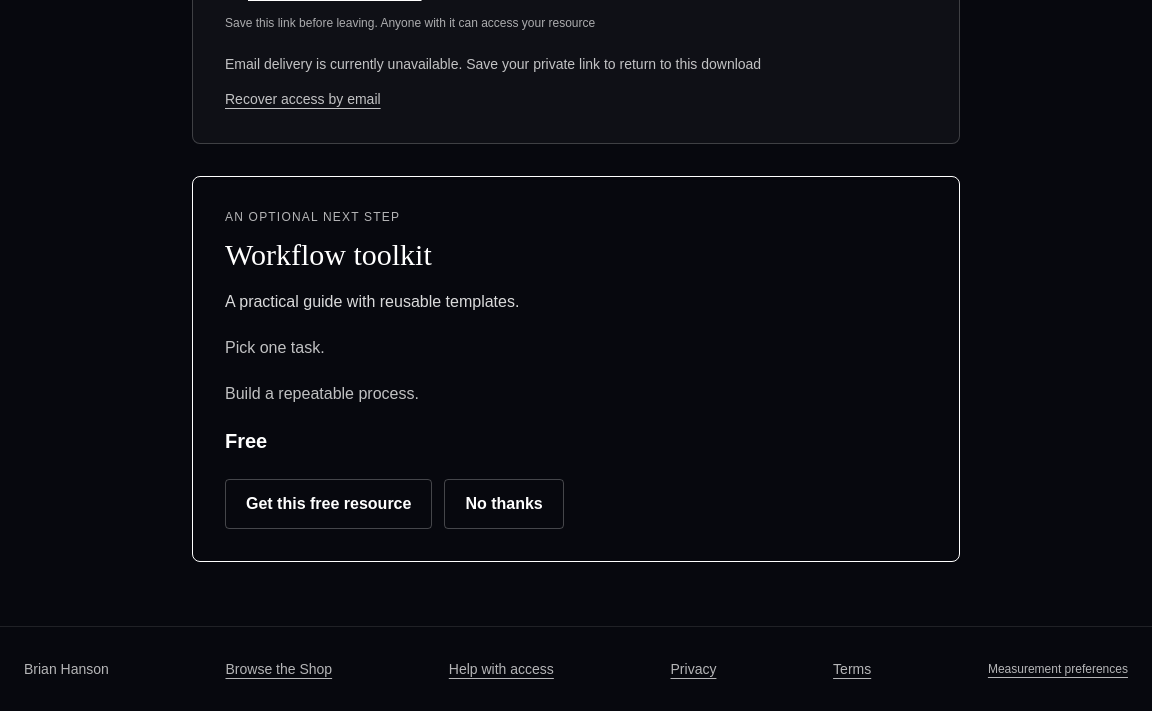
offer visitor journey › removes the bearer fragment, uses POST data and keeps original access after declining
(page scrolled)
Click the button "No thanks": (504, 504) [444,478,564,528]
(page scrolled)
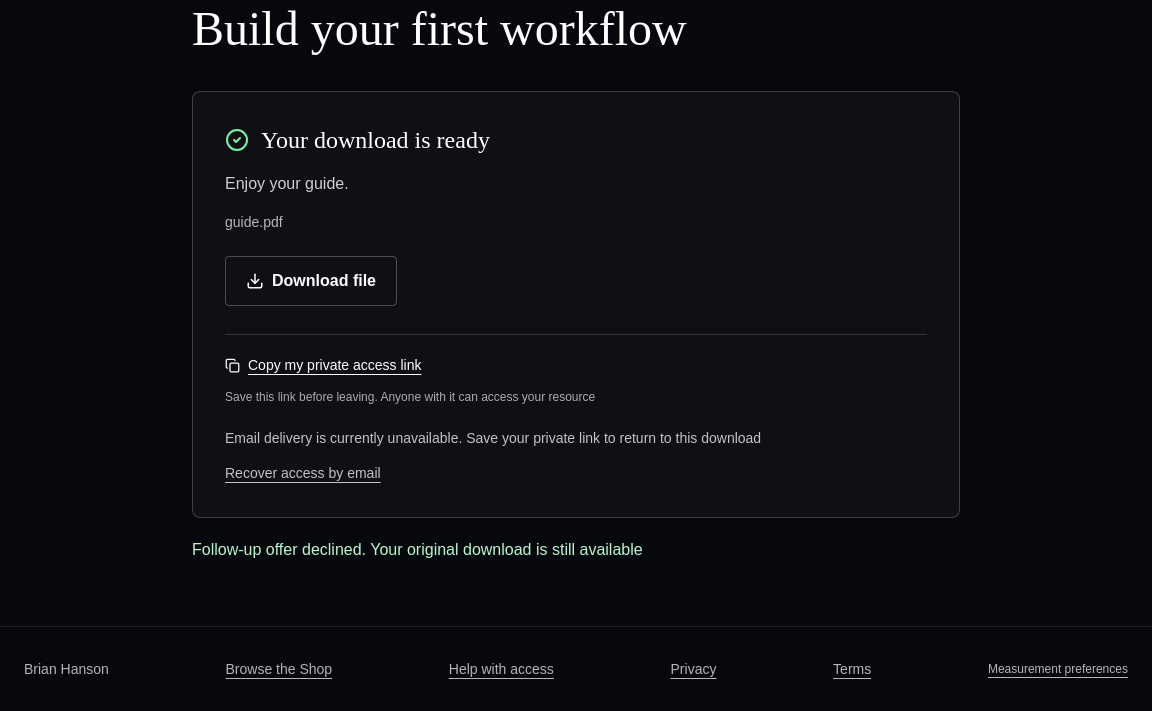
Expected: the button "Download file" is shown, [225,256,397,306]
Expected: the text "Follow-up offer declined. Your original download is still available" is shown, [192,540,643,558]
Expected: the button "Get this free resource" is gone
